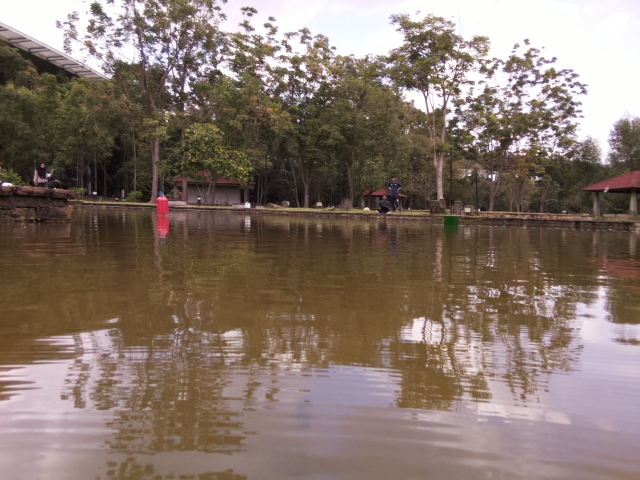obstacle: (443, 215, 459, 227)
